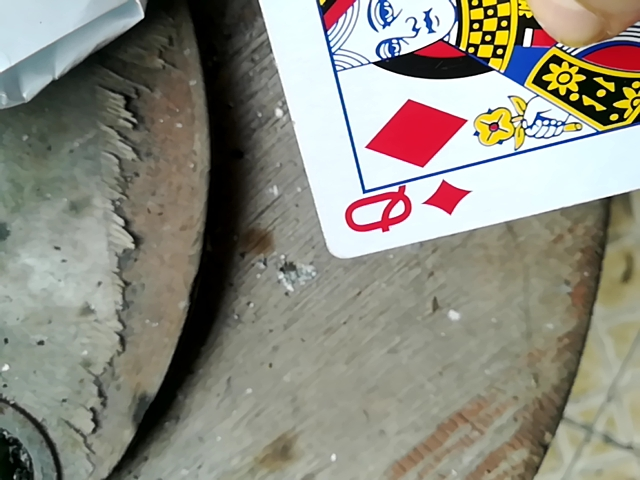fk q: (230, 2, 638, 265)
